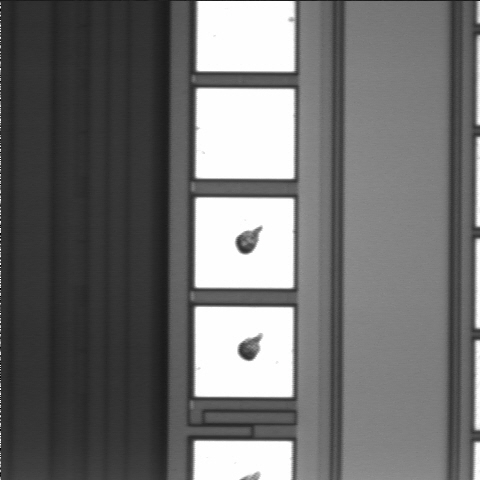pad: (196, 88, 294, 179), (195, 198, 294, 288), (195, 307, 293, 397)
